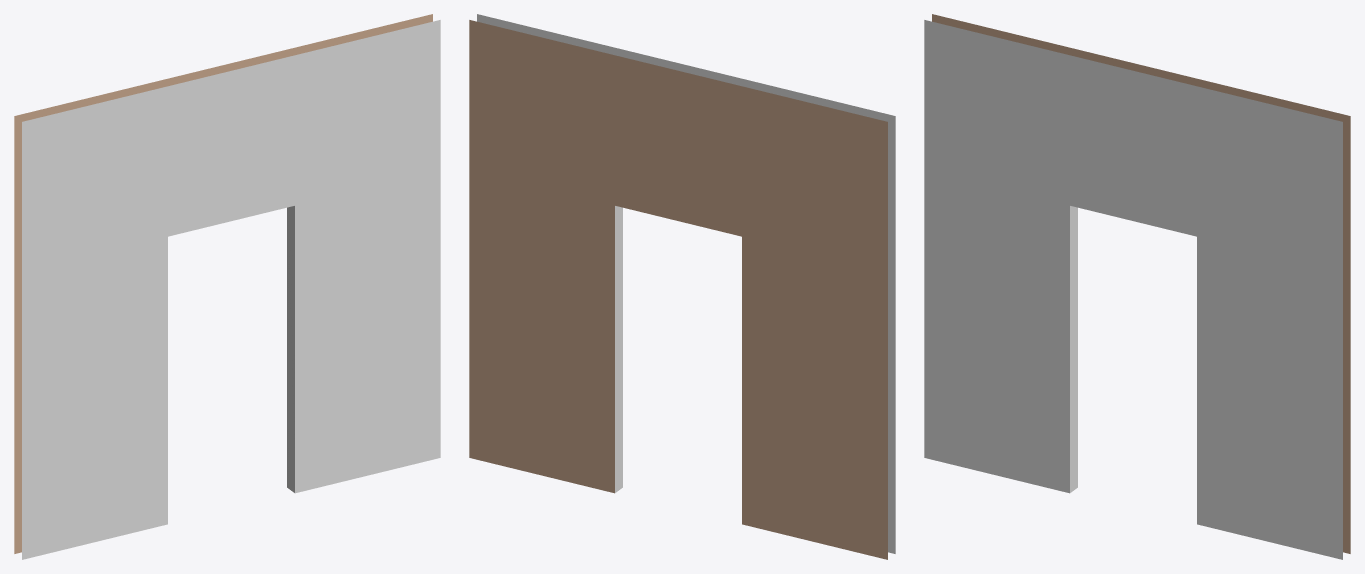
File: Wall02_door_collider.fbx
The picture shows the model from 3 angles, left to right: view 1: azimuth 30°, elevation 25°; view 2: azimuth 150°, elevation 25°; view 3: azimuth 330°, elevation 25°; orthographic projection.
Parts seen in each view (by area): view 1: Cube.045; view 2: Cube.045; view 3: Cube.045.
Part boxes in pixels (left/top/right/bottom): Cube.045: left=14, top=14, right=440, bottom=559; Cube.045: left=469, top=14, right=895, bottom=559; Cube.045: left=924, top=14, right=1350, bottom=559.
Bounding box in the file's own units: 4 × 4 × 0.13.
